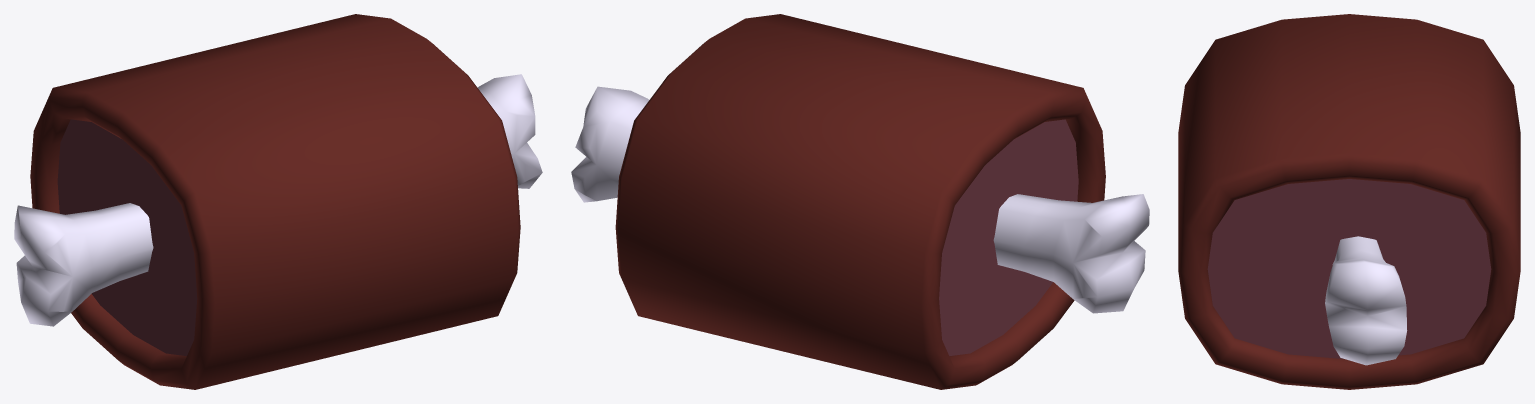
File: meat.glb
3 renders of one model, left to right at view 1: azimuth 30°, elevation 25°; view 2: azimuth 150°, elevation 25°; view 3: azimuth 270°, elevation 25°, orthographic. The views are drawn at different scales.
Parts seen in each view (by area): view 1: Meat; view 2: Meat; view 3: Meat.
Part boxes in pixels (x1,y1,x2,y2): Meat: (14, 14, 542, 389); Meat: (571, 14, 1149, 389); Meat: (1178, 14, 1520, 389).
Bounding box in the file's own units: 1.12 × 0.5096 × 0.6667.
Materials: 1 (1 with a texture image).
